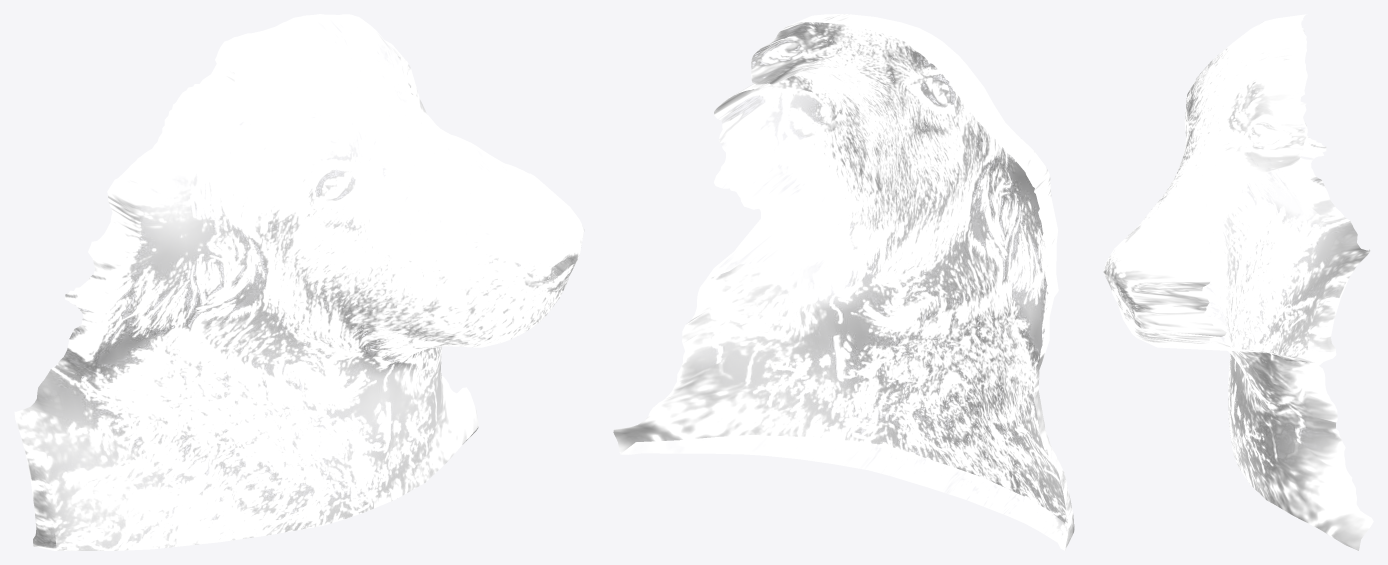
The model's file is engraving_test_2_emit_2.glb.
3 renders of one model, left to right at view 1: azimuth 30°, elevation 25°; view 2: azimuth 150°, elevation 25°; view 3: azimuth 270°, elevation 25°, orthographic. The views are drawn at different scales.
Parts seen in each view (by area): view 1: mesh; view 2: mesh; view 3: mesh.
Part boxes in pixels (x1=…): mesh: x1=14, y1=14, x2=584, y2=550; mesh: x1=613, y1=14, x2=1074, y2=550; mesh: x1=1103, y1=14, x2=1373, y2=550.
Size of the model in its own units: 0.0502 by 0.0505 by 0.0292.
1 material, 1 textured.
